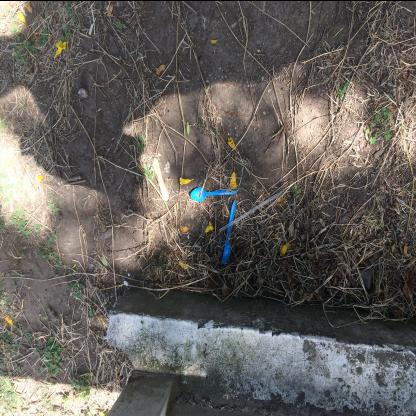plastik: (220, 192, 282, 232), (222, 200, 237, 264), (191, 187, 239, 202)
